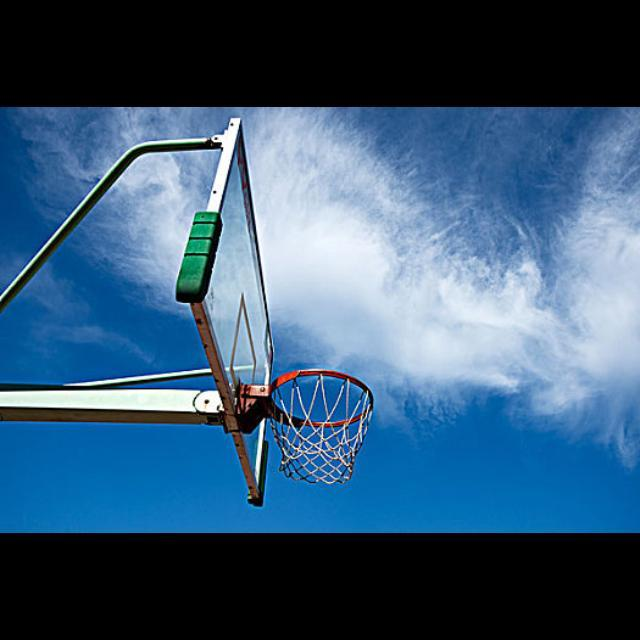rim: (270, 370, 374, 484)
